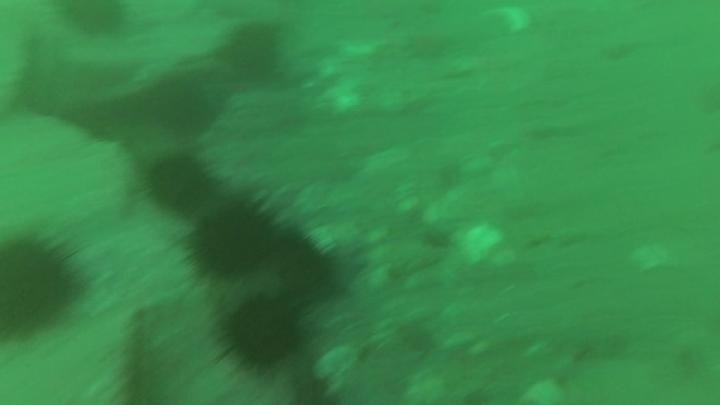echinus: (1, 229, 86, 341), (188, 199, 278, 280), (219, 294, 305, 372), (265, 227, 338, 302), (143, 152, 215, 216), (221, 20, 285, 85), (150, 80, 216, 138), (57, 1, 130, 40)
